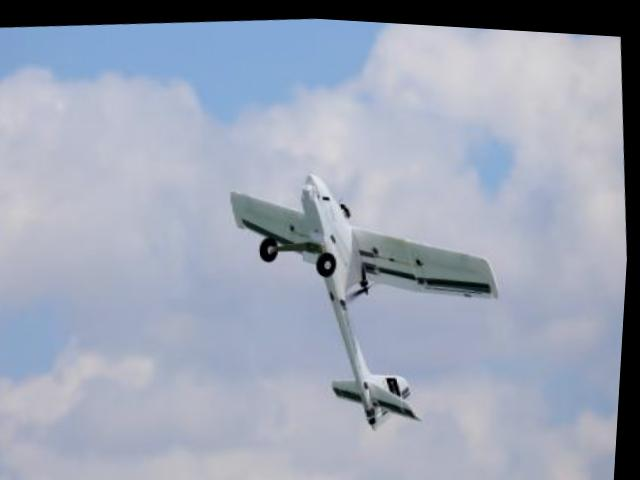uav: (217, 149, 522, 445)
